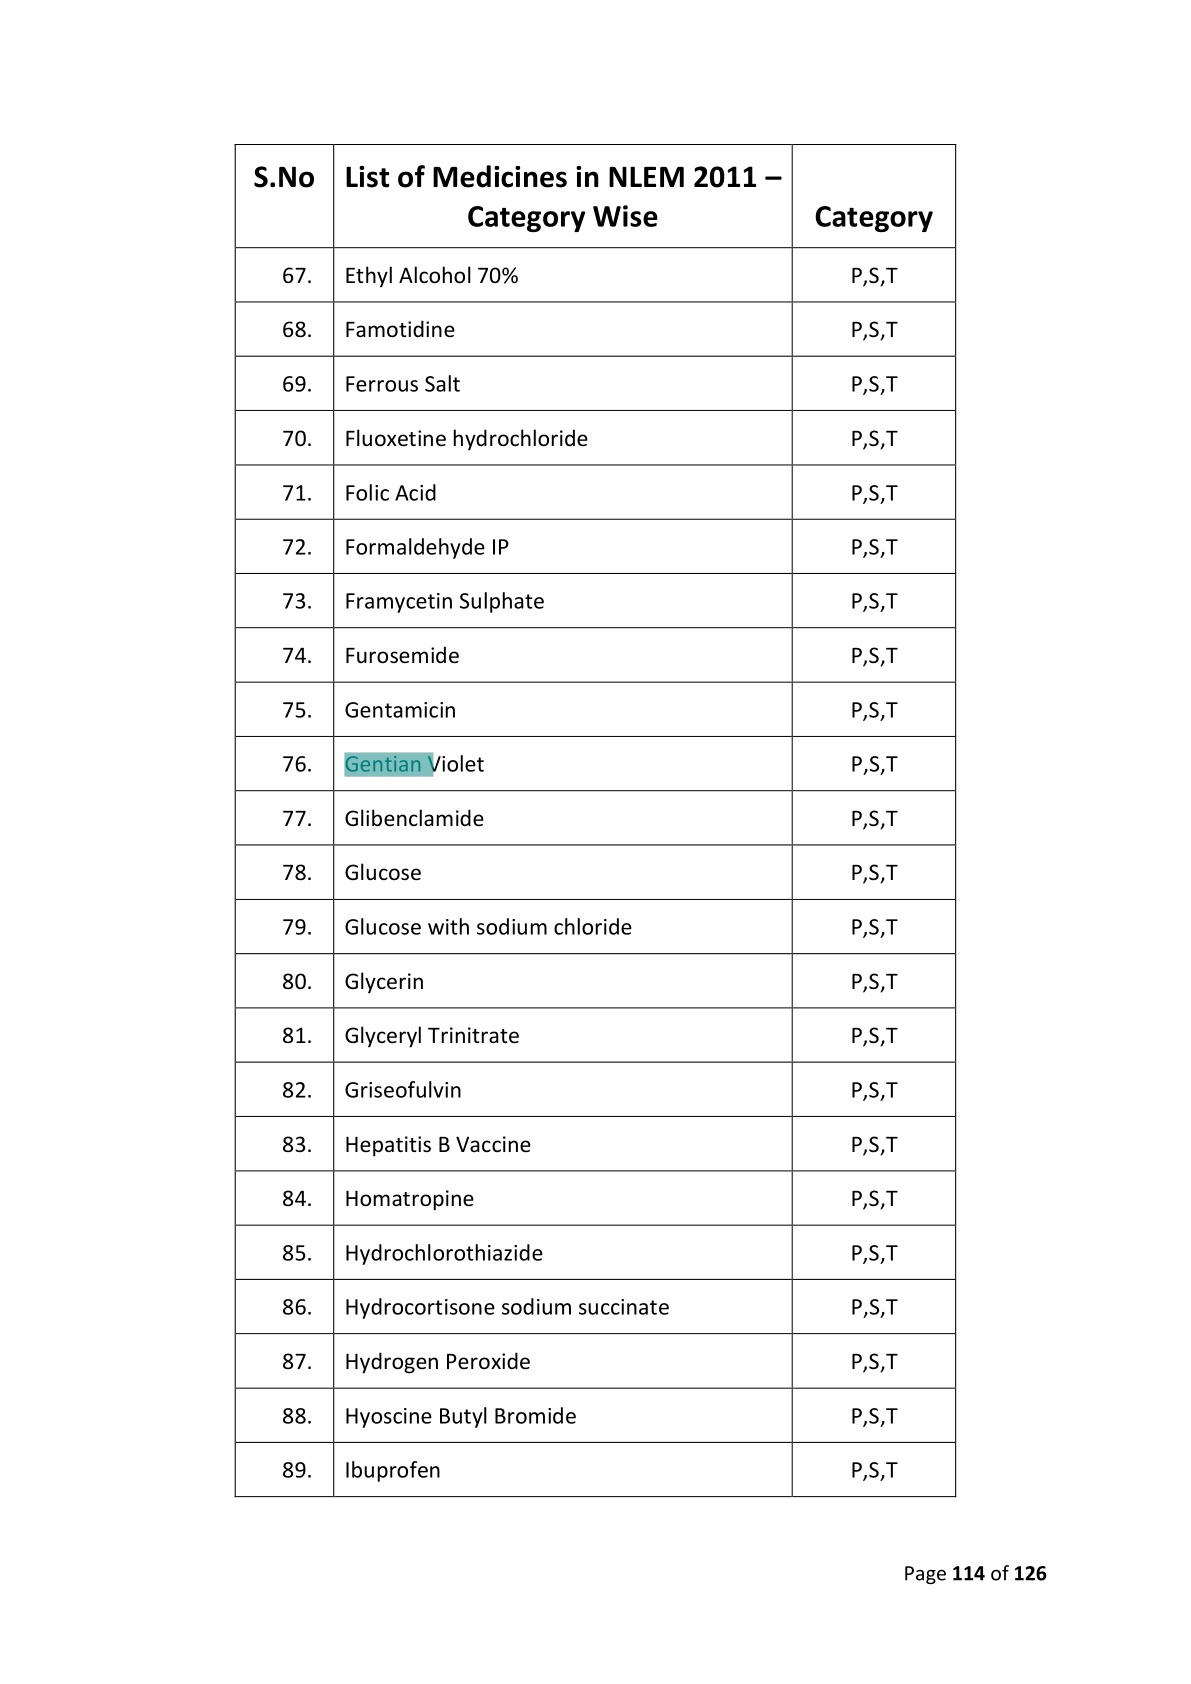full_lined: (233, 143, 956, 1498)
